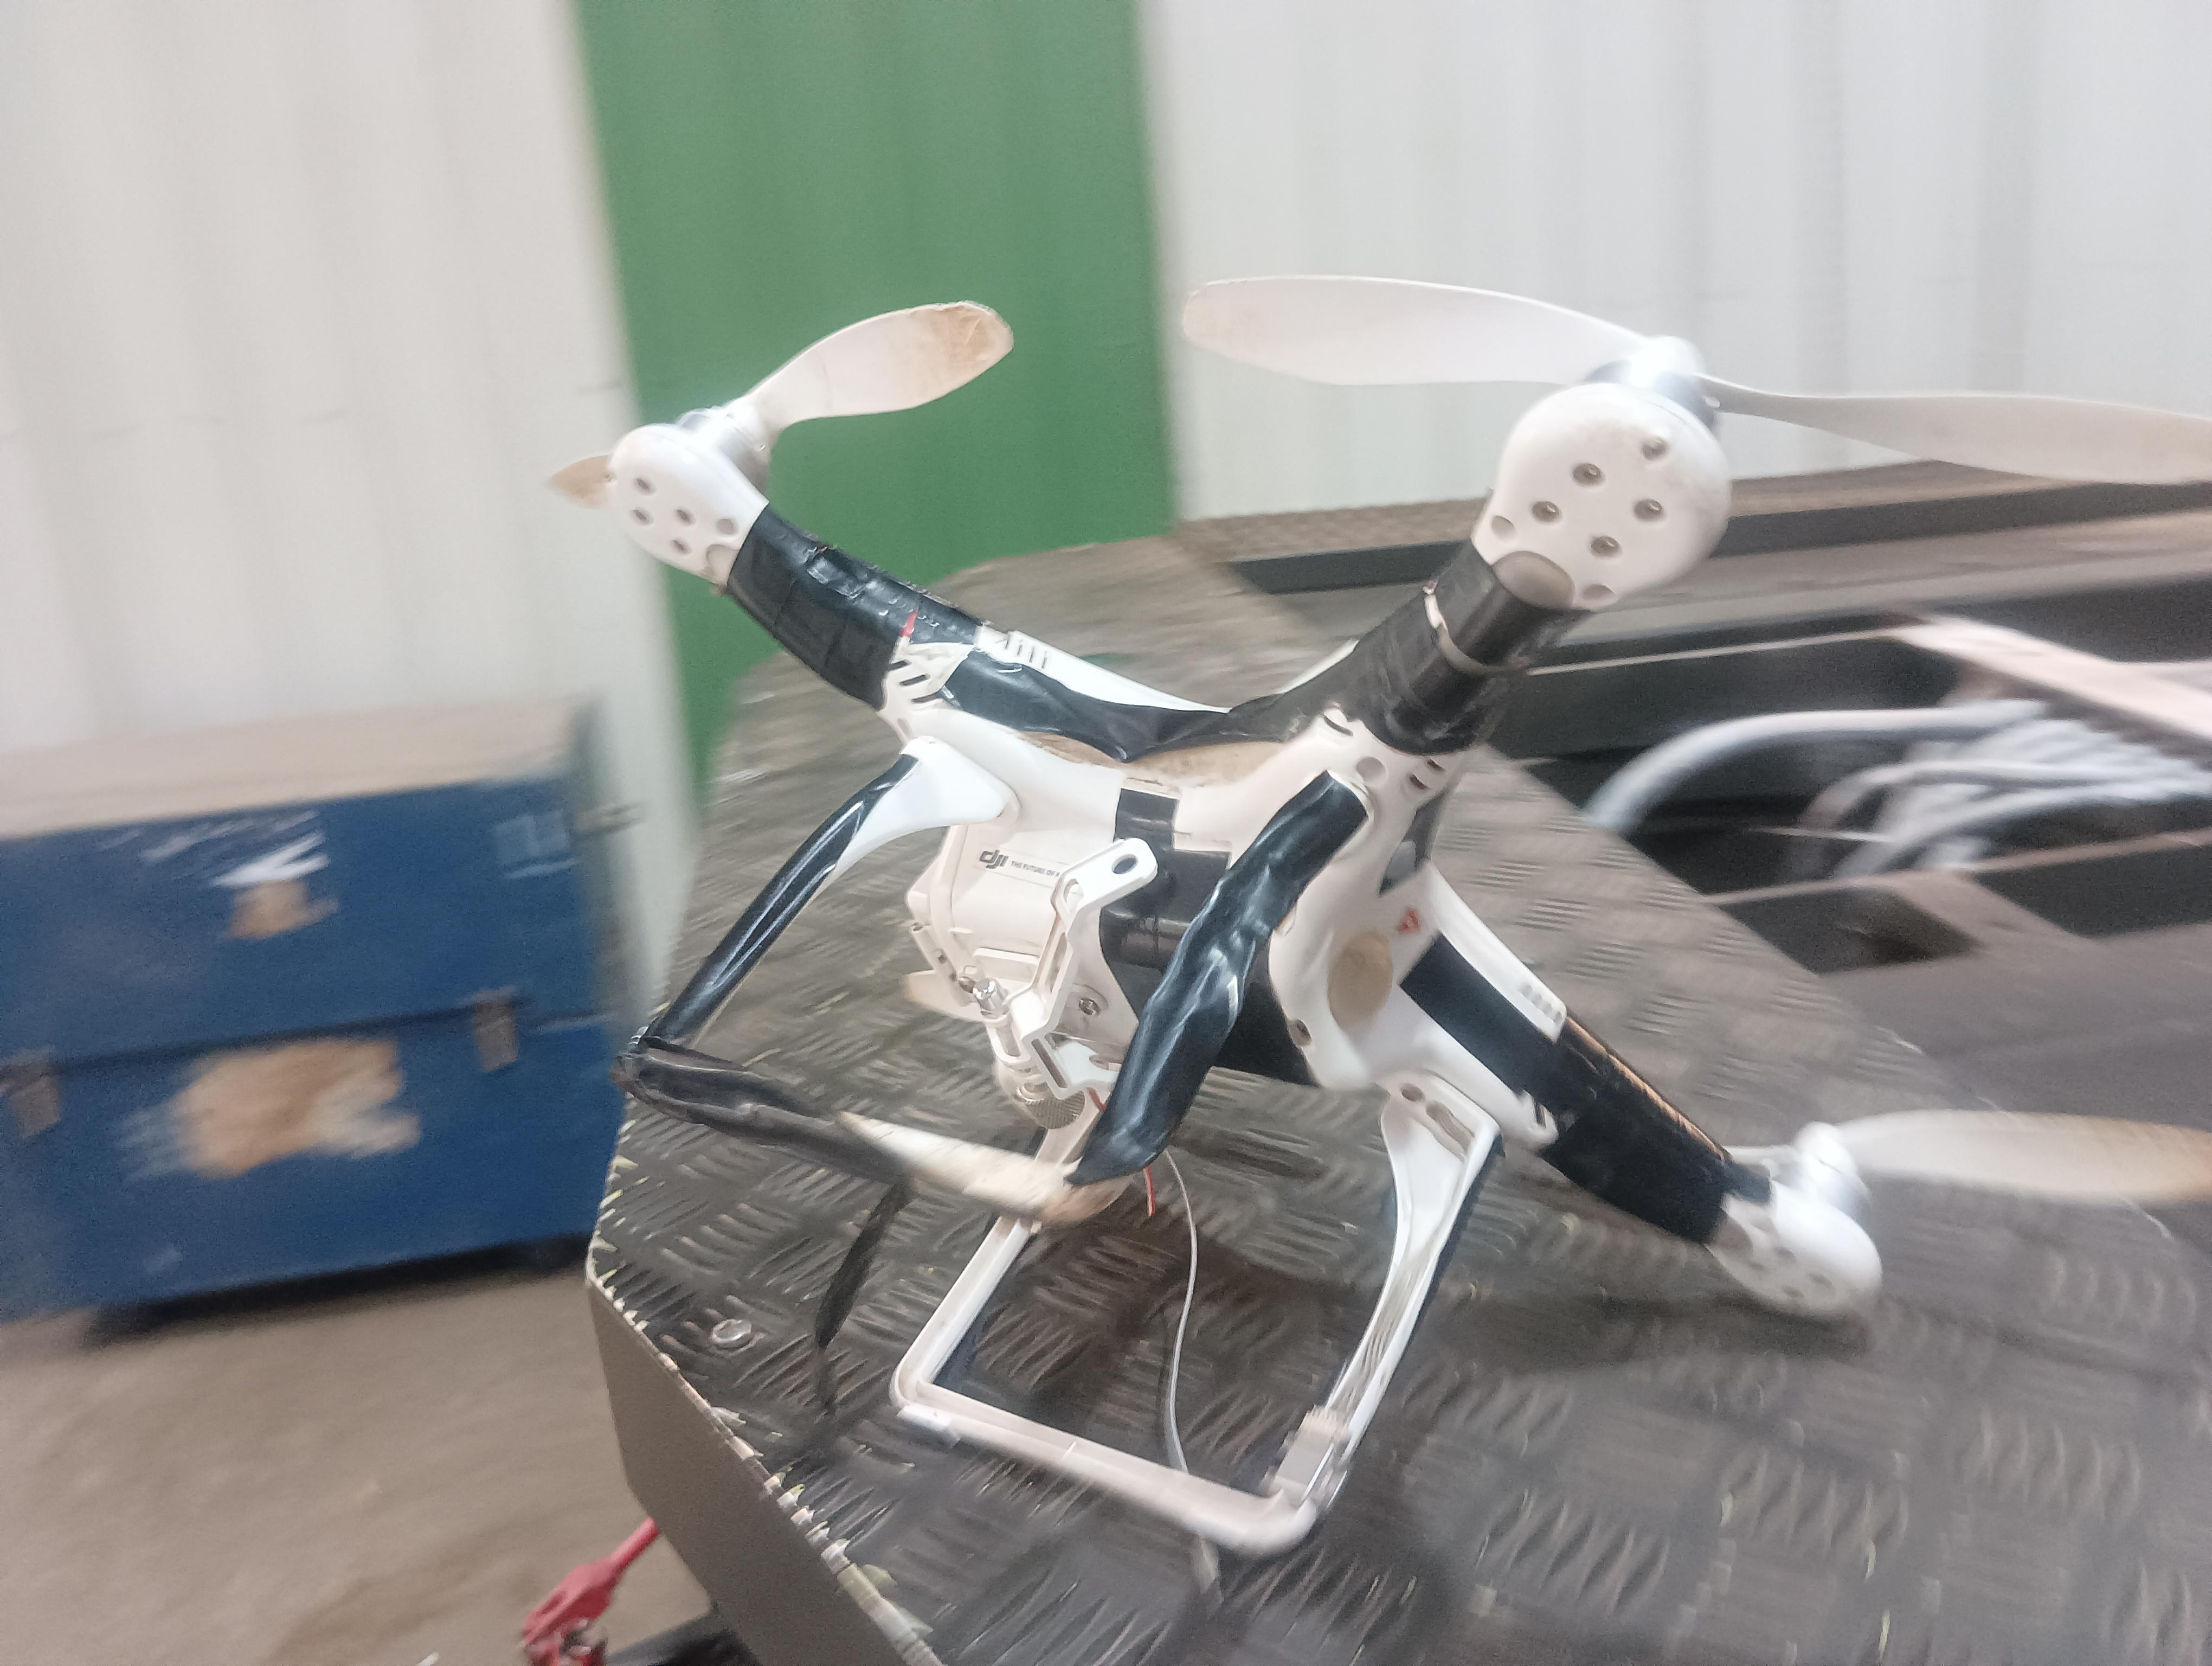drone: (581, 229, 1953, 1556)
